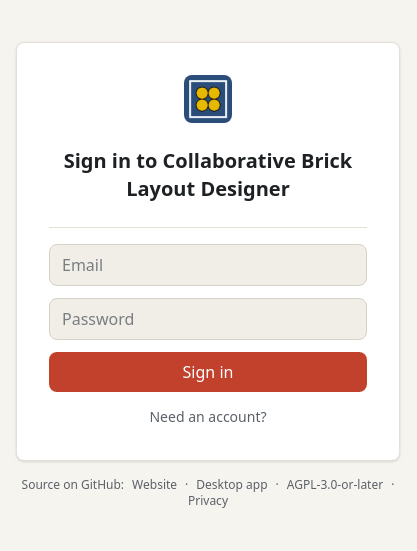
it: sign-in waits › shows "too many tries, wait N" for a paced account
The image size is (417, 551).
In the field labelled "Email": (208, 264) [49,244,367,286], type "sam@example.com"
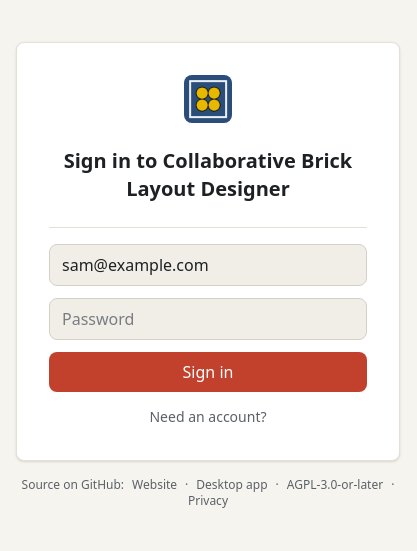
In the password field labelled "Password": (208, 318) [49,298,367,340], type "some-password-1"
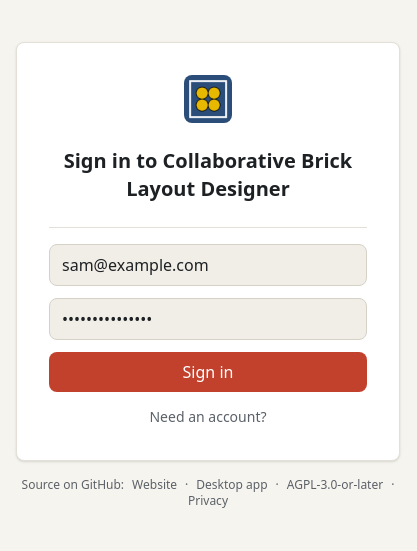
Click the button "Sign in": click(208, 372) [49,352,367,392]
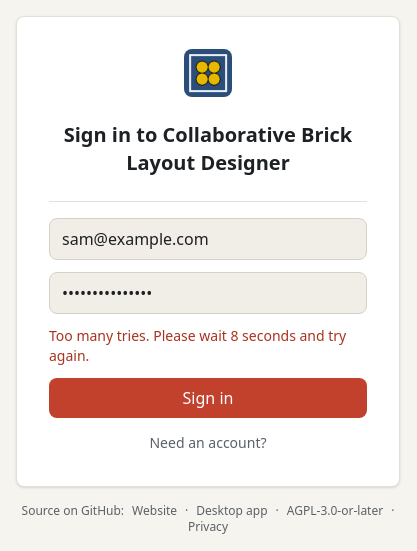
Expected: the text "Too many tries. Please wait 8 seconds and try again." is shown, [49,326,367,366]
